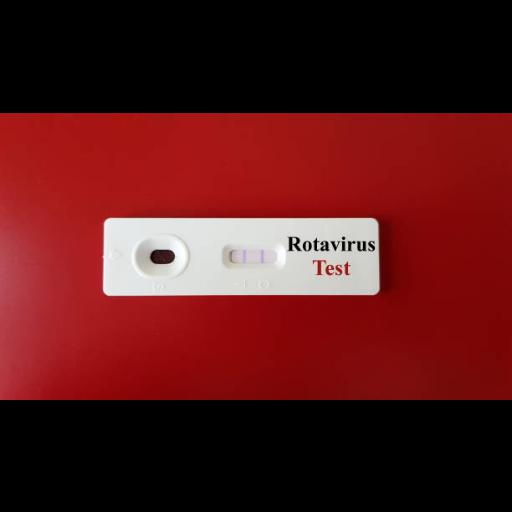Pos: (104, 217, 378, 293)
